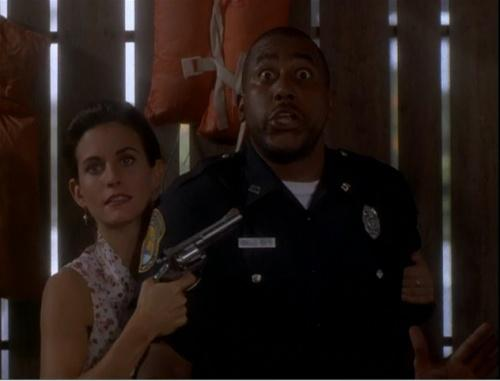Gun: (153, 205, 242, 293)
